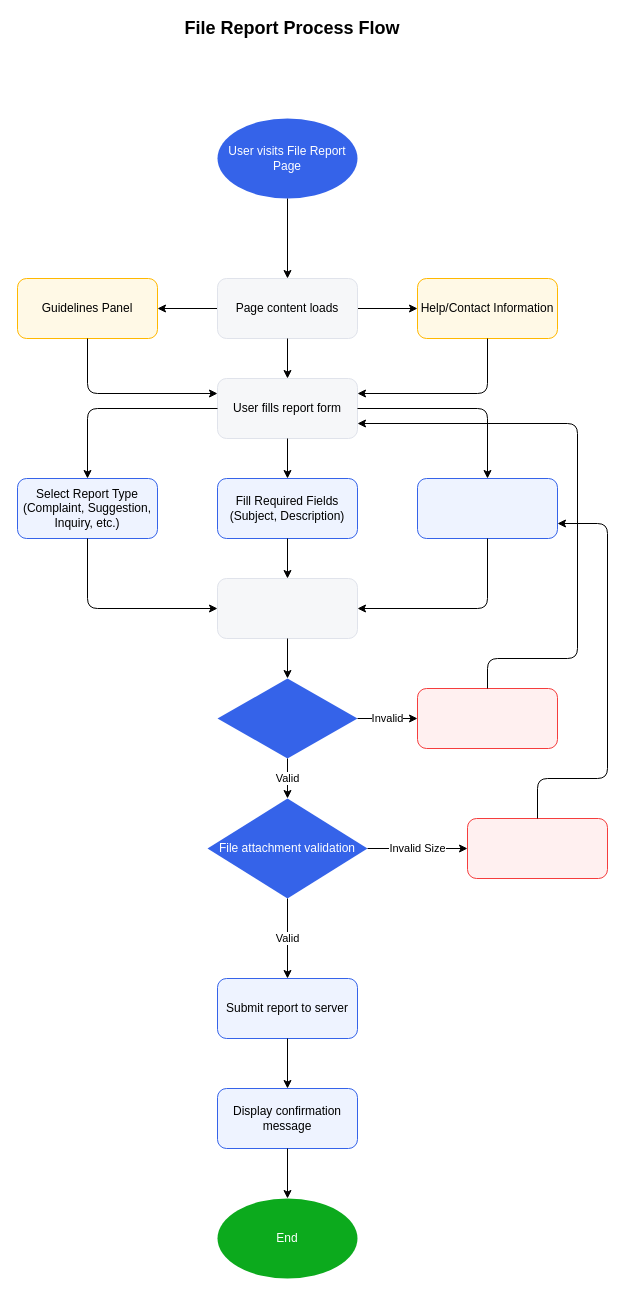
Image size: 633x1295. Some labels were removed from this diagram. The centre of each missing label's shape, as x and y in pixels:
Add Optional Details (Location, Date, Attachment): (487,508)
Display file size error: (537,848)
Display validation errors: (487,718)
Form validation: (287,718)
User submits form: (287,608)
